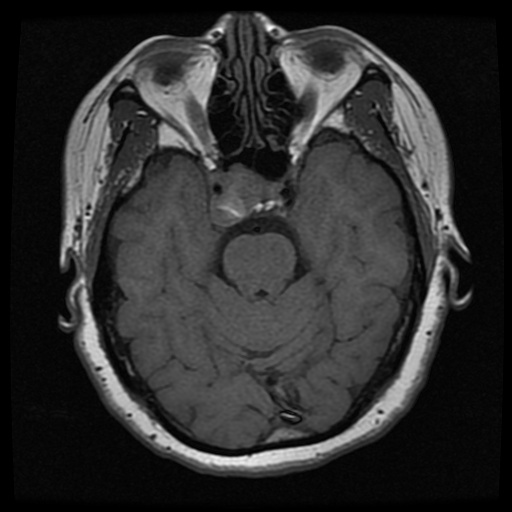pituitary: (214, 164, 283, 225)
